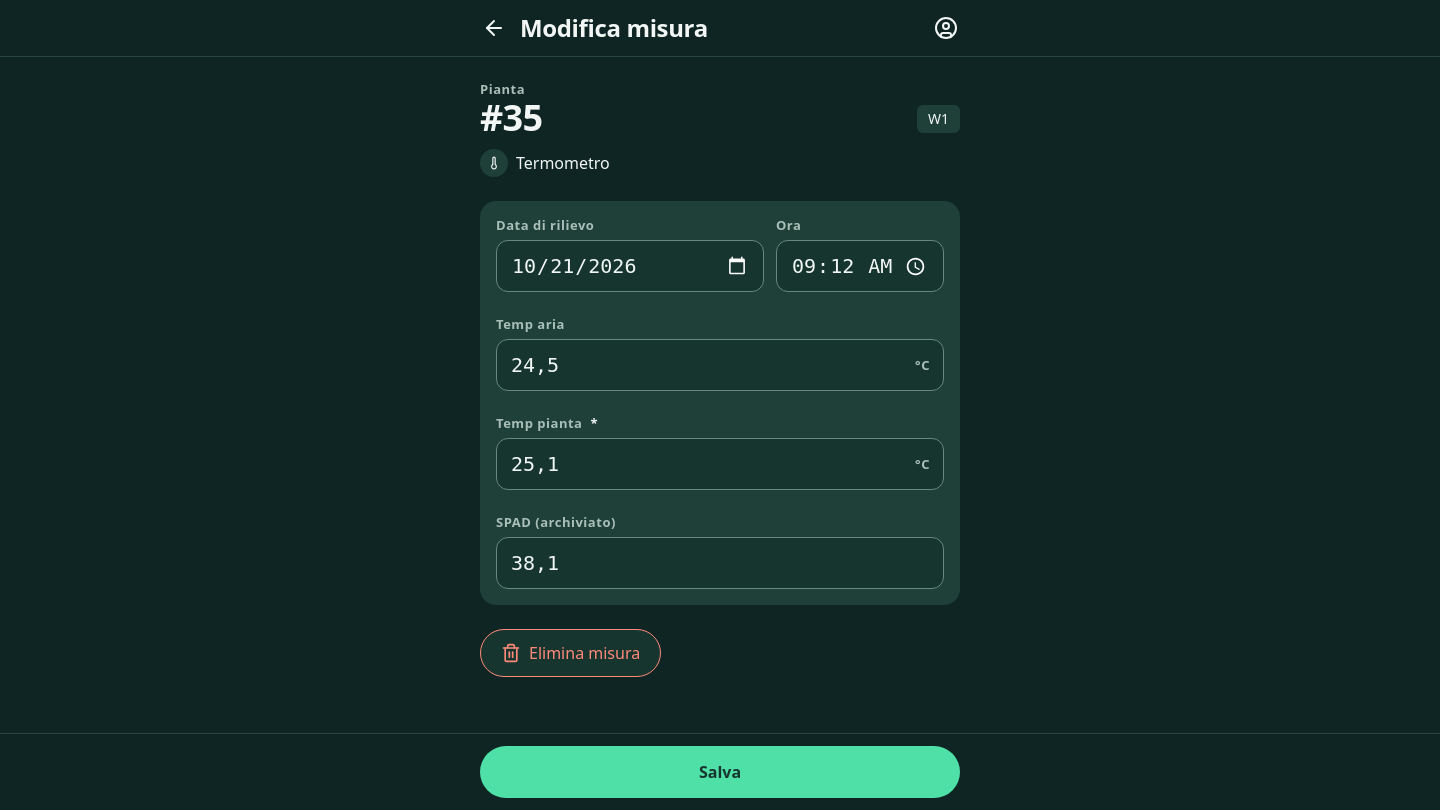
Test: ModificaMisura: cosa mostra › un obbligatorio che la misura ha già non si può svuotare
Clear the field labelled "Temp pianta *": coordinates (720, 464) [496, 438, 944, 490]
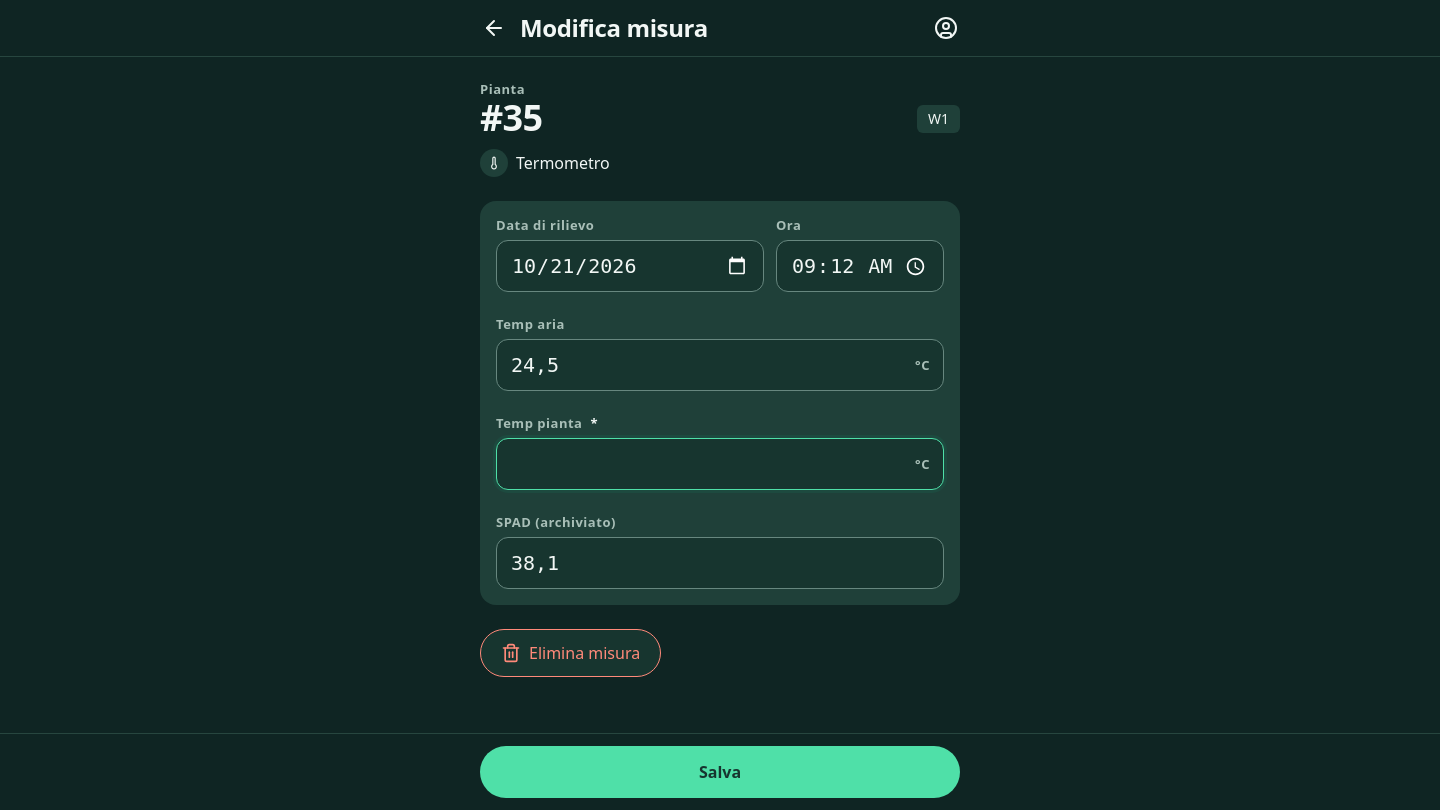
Click the button "Salva": coordinates (720, 772) [480, 746, 960, 798]
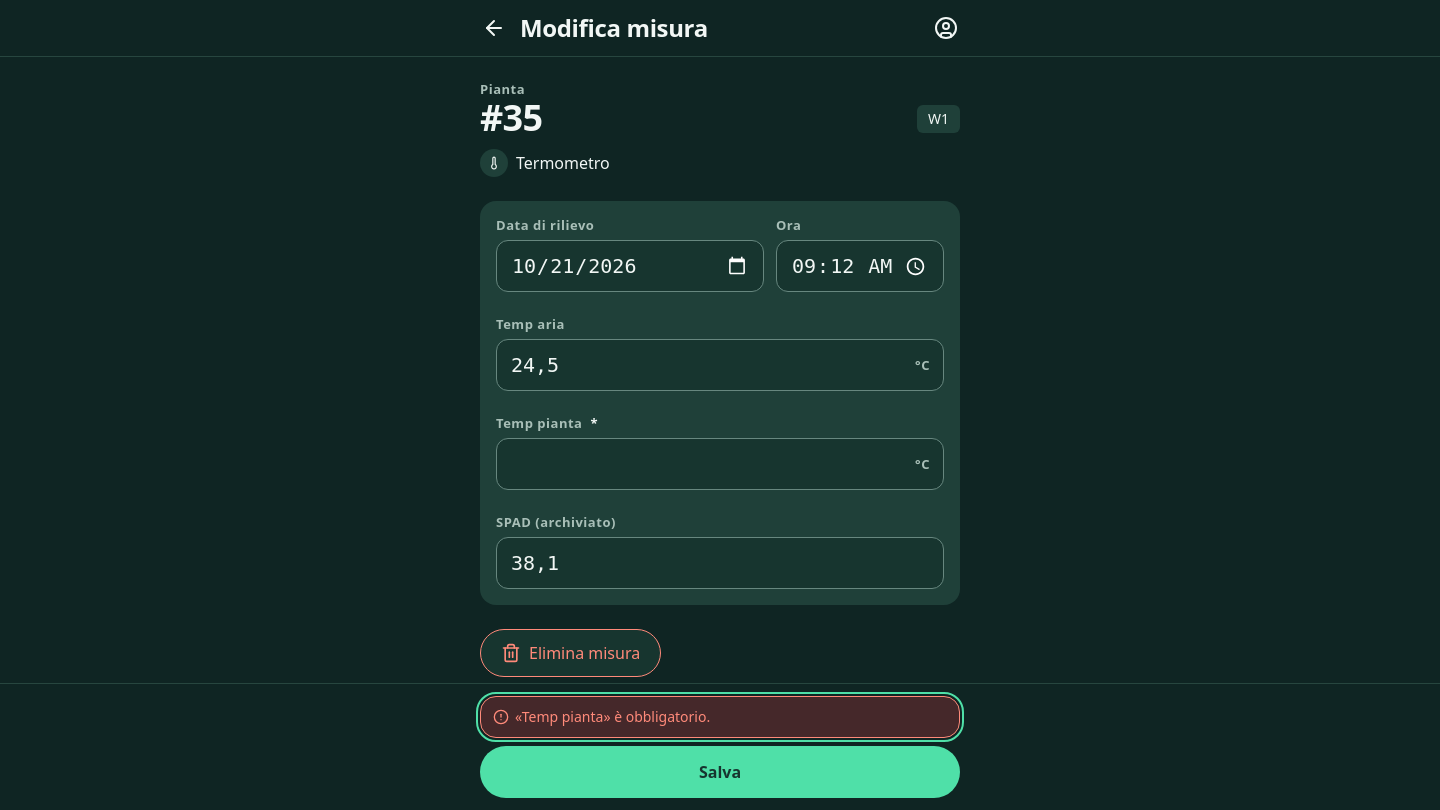
Now the message reads "«Temp pianta» è obbligatorio.", box [515, 707, 710, 726]
